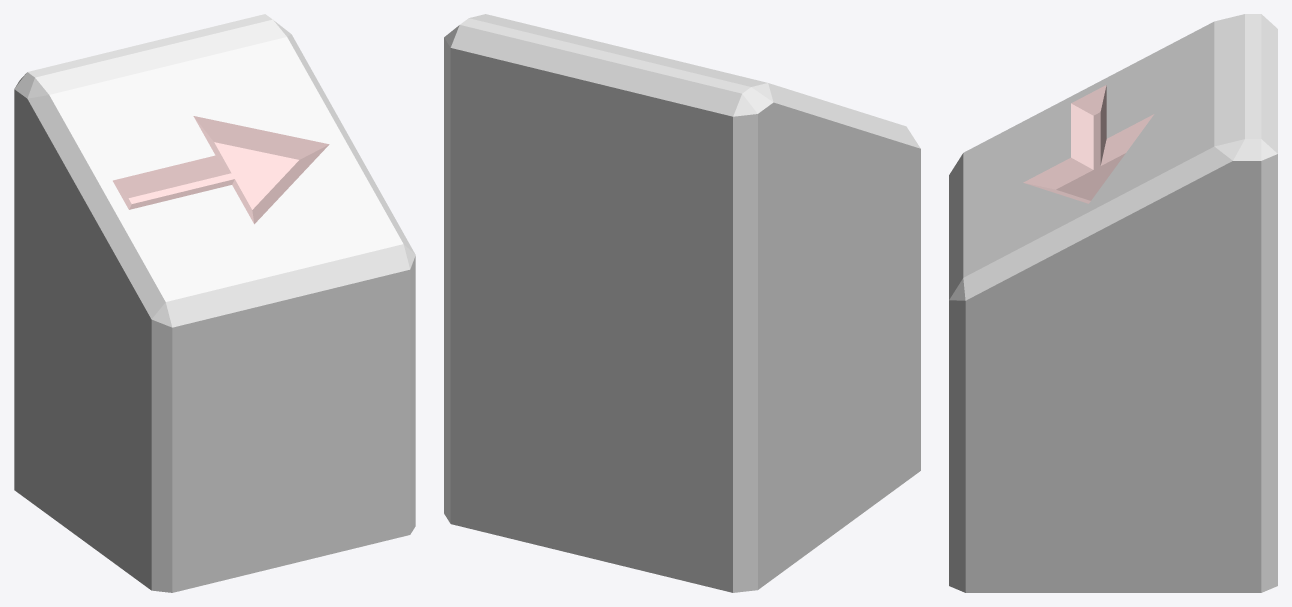
Rendered from StartPost.gltf.
The picture shows the model from 3 angles, left to right: view 1: azimuth 30°, elevation 25°; view 2: azimuth 150°, elevation 25°; view 3: azimuth 270°, elevation 25°; orthographic projection. The views are drawn at different scales.
Visible parts, largest first — view 1: StartPost; view 2: StartPost; view 3: StartPost.
Part boxes in pixels (x1,y1,x2,y2): StartPost: (14, 14, 415, 592); StartPost: (444, 14, 920, 592); StartPost: (949, 14, 1277, 592).
Bounding box in the file's own units: 78.74 × 118 × 78.74.
